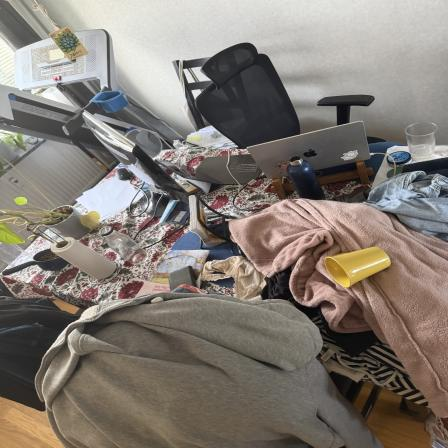blue_bottle: (281, 155, 325, 202)
phone: (165, 266, 200, 298)
yellow_cup: (324, 248, 393, 286)
